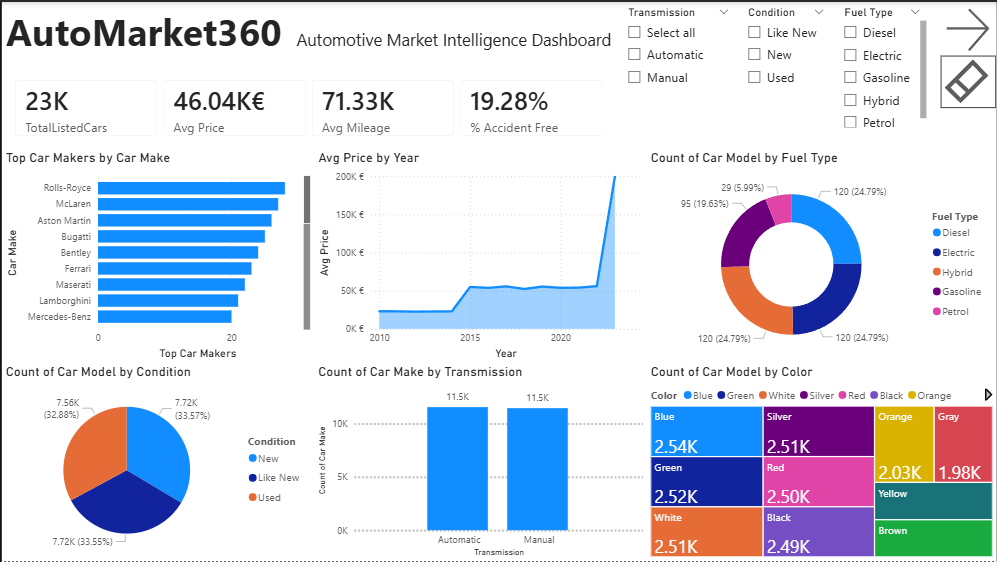

The dashboard page shown, as its layout file describes it:
{"tool":"powerbi","page":{"name":"Page 1","canvas":[1280,720],"ordinal":0},"visuals":[{"type":"cardVisual","fields":{"Data":["Car_Sales.Total Listing","Car_Sales.Avg Price","Car_Sales.Avg Mileage","Car_Sales.% Accident Free"]},"box":[0,83.3,793.3,106.7],"z":0},{"type":"barChart","fields":{"Y":["Car_Sales.Top Car Makers"],"Category":["Car_Sales.Car Make"]},"box":[0,190,401.7,275],"z":1},{"type":"areaChart","fields":{"Category":["Car_Sales.Year"],"Y":["Car_Sales.Avg Price"]},"box":[401.7,190,428.3,275],"z":2},{"type":"donutChart","fields":{"Category":["Car_Sales.Fuel Type"],"Y":["Count(Car_Sales.Car Model)"]},"box":[830,190,450,275.7],"z":3},{"type":"pieChart","fields":{"Category":["Car_Sales.Condition"],"Y":["CountNonNull(Car_Sales.Car Model)"]},"box":[0,465,401.7,255],"z":4},{"type":"columnChart","fields":{"Category":["Car_Sales.Transmission"],"Y":["CountNonNull(Car_Sales.Car Make)"]},"box":[401.7,465,428.3,255],"z":5},{"type":"treemap","fields":{"Group":["Car_Sales.Color"],"Values":["CountNonNull(Car_Sales.Car Model)"]},"box":[830,465.7,450,254.3],"z":6},{"type":"slicer","fields":{"Values":["Car_Sales.Transmission"]},"box":[793.3,0,155,166.7],"z":7},{"type":"slicer","fields":{"Values":["Car_Sales.Condition"]},"box":[948.3,0,123.3,166.7],"z":8},{"type":"slicer","fields":{"Values":["Car_Sales.Fuel Type"]},"box":[1071.7,0,123.3,166.7],"z":9},{"type":"textbox","box":[0,0,793.3,83.3],"z":10},{"type":"actionButton","box":[1208.6,70,71.4,67.1],"z":11},{"type":"actionButton","box":[1208.6,1.4,71.4,68.6],"z":12}]}

Visuals, with their boxes in screenshot pixels (x1, y1, x2, y2), scaled from the page's 1280x720 canvas onto the 997x562 screenshot:
cardVisual - Car_Sales.Total Listing x Car_Sales.Avg Price: 0, 65, 618, 148
barChart - Car_Sales.Top Car Makers x Car_Sales.Car Make: 0, 148, 313, 363
areaChart - Car_Sales.Year x Car_Sales.Avg Price: 313, 148, 646, 363
donutChart - Car_Sales.Fuel Type x Count(Car_Sales.Car Model): 646, 148, 996, 364
pieChart - Car_Sales.Condition x CountNonNull(Car_Sales.Car Model): 0, 363, 313, 561
columnChart - Car_Sales.Transmission x CountNonNull(Car_Sales.Car Make): 313, 363, 646, 561
treemap - Car_Sales.Color x CountNonNull(Car_Sales.Car Model): 646, 364, 996, 561
slicer - Car_Sales.Transmission: 618, 0, 739, 130
slicer - Car_Sales.Condition: 739, 0, 835, 130
slicer - Car_Sales.Fuel Type: 835, 0, 931, 130
textbox: 0, 0, 618, 65
actionButton: 941, 55, 996, 107
actionButton: 941, 1, 996, 55
